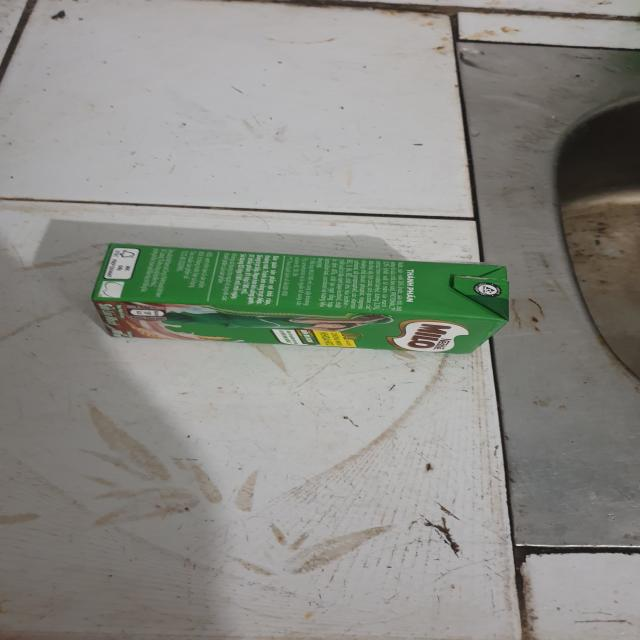Milo: (87, 240, 525, 364)
